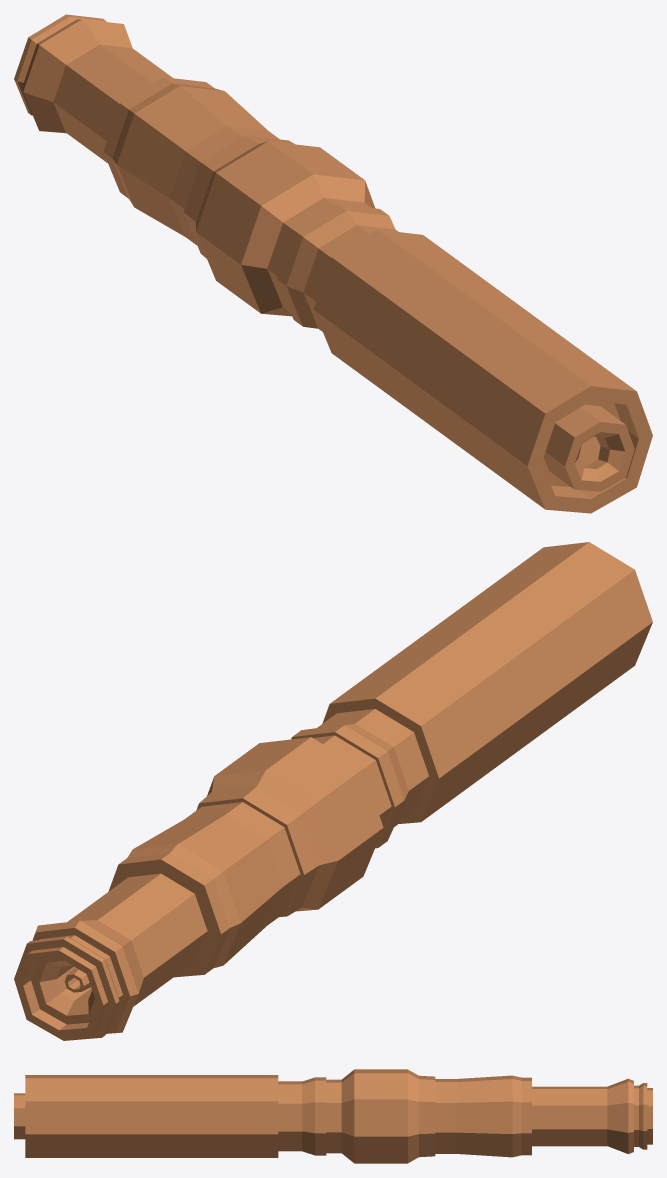
Rendered from nuclearmotor.fbx.
The picture shows the model from 3 angles, top to bottom: view 1: azimuth 30°, elevation 25°; view 2: azimuth 150°, elevation 25°; view 3: azimuth 270°, elevation 25°; orthographic projection. The views are drawn at different scales.
Parts seen in each view (by area): view 1: Part_NuclearMotor; view 2: Part_NuclearMotor; view 3: Part_NuclearMotor.
Part boxes in pixels (x1,y1,x2,y2): Part_NuclearMotor: (14, 14, 652, 513); Part_NuclearMotor: (14, 542, 652, 1040); Part_NuclearMotor: (14, 1069, 652, 1163).
Bounding box in the file's own units: 170 × 164 × 1114.
